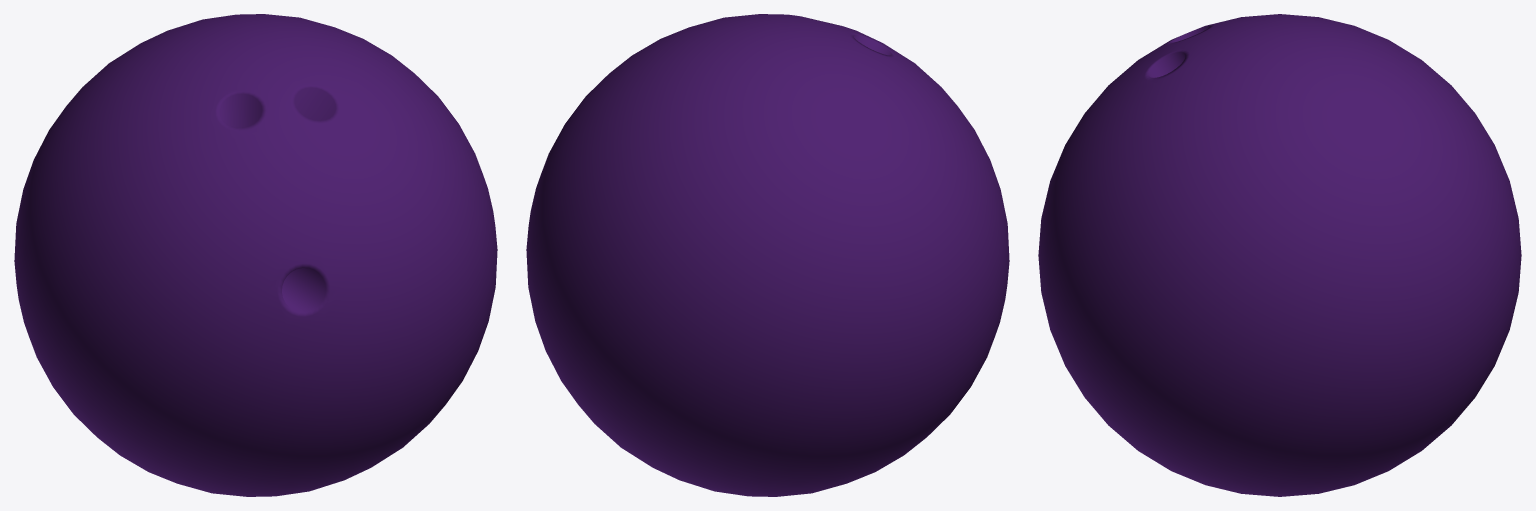
File: BowlingBall.fbx
The picture shows the model from 3 angles, left to right: view 1: azimuth 30°, elevation 25°; view 2: azimuth 150°, elevation 25°; view 3: azimuth 270°, elevation 25°; orthographic projection.
Parts seen in each view (by area): view 1: BowlingBall; view 2: BowlingBall; view 3: BowlingBall.
Boxes of the visible parts, x1,y1,x2,y2 form: BowlingBall: (14,14,497,496); BowlingBall: (526,14,1009,496); BowlingBall: (1038,14,1521,496).
Size of the model in its own units: 200 by 200 by 200.
